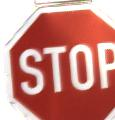Stop sign: (0, 0, 114, 119)
